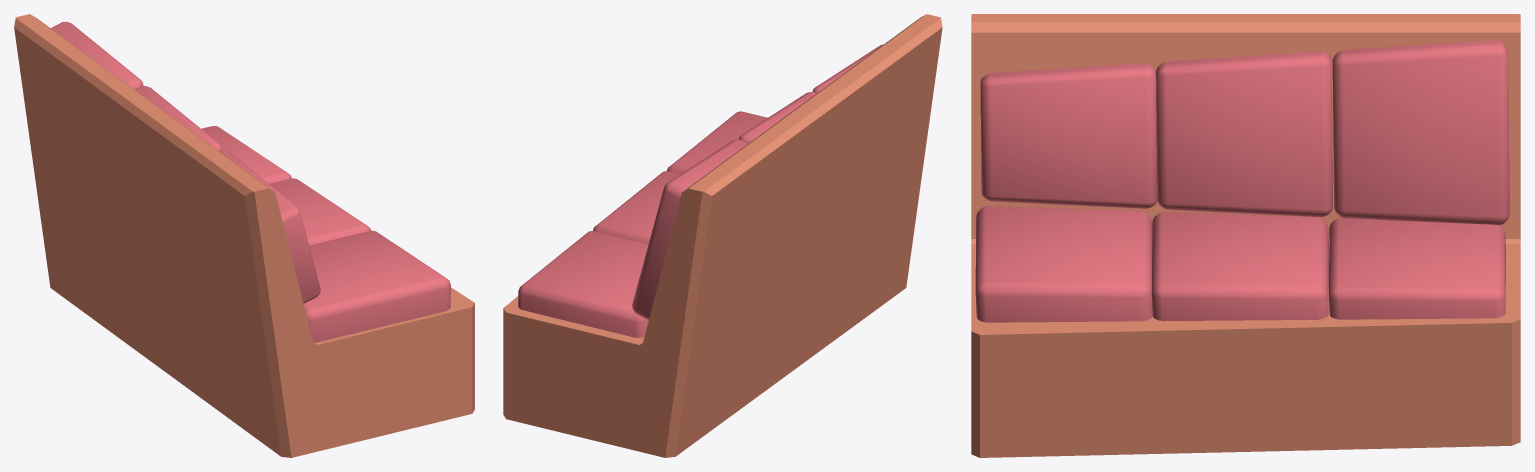
The model's file is Garden_Coach.fbx.
The picture shows the model from 3 angles, left to right: view 1: azimuth 30°, elevation 25°; view 2: azimuth 150°, elevation 25°; view 3: azimuth 270°, elevation 25°; orthographic projection. The views are drawn at different scales.
Parts seen in each view (by area): view 1: Cube.013, Cube.011, Cube.012; view 2: Cube.013, Cube.011, Cube.012; view 3: Cube.013, Cube.012, Cube.011.
Part boxes in pixels (<box>): Cube.013: <box>14,14,474,457</box>; Cube.011: <box>201,126,450,342</box>; Cube.012: <box>51,21,320,303</box>; Cube.013: <box>503,14,942,457</box>; Cube.011: <box>518,111,767,337</box>; Cube.012: <box>632,44,882,320</box>; Cube.013: <box>971,14,1520,457</box>; Cube.012: <box>980,40,1509,225</box>; Cube.011: <box>975,206,1505,322</box>.
Size of the model in its own units: 108 by 124 by 194.
